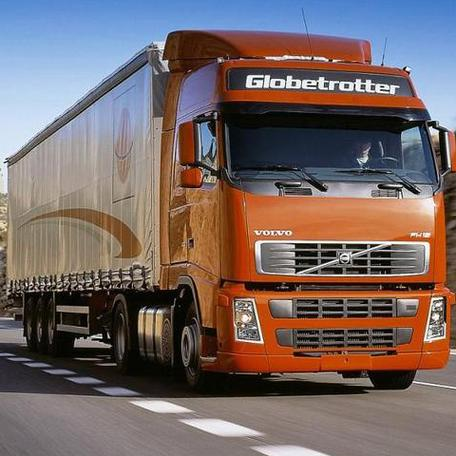卡车: (1, 19, 456, 413)
